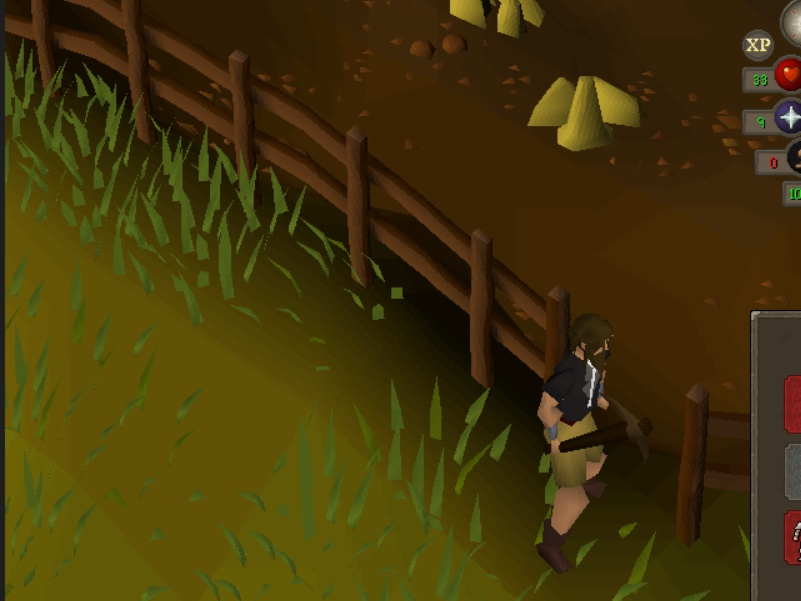gold: (528, 65, 648, 154), (442, 1, 554, 43)
